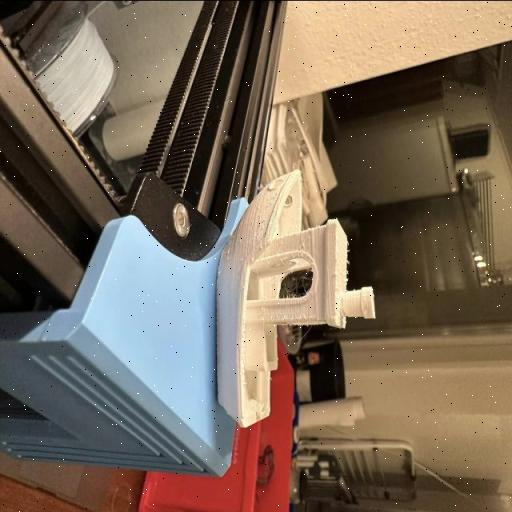stringing: (262, 272, 308, 300)
